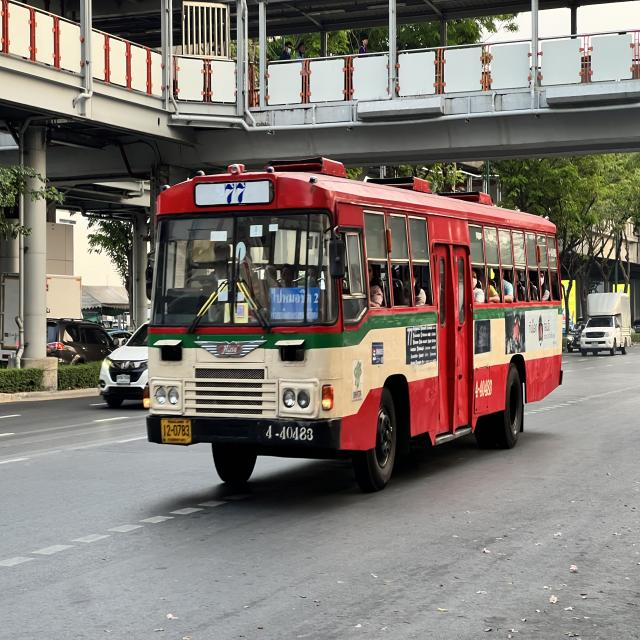BMTA-bus: (131, 143, 570, 506)
Bus-Line-Number: (192, 178, 274, 202)
Destination-Sign-Normal: (272, 285, 322, 324)
